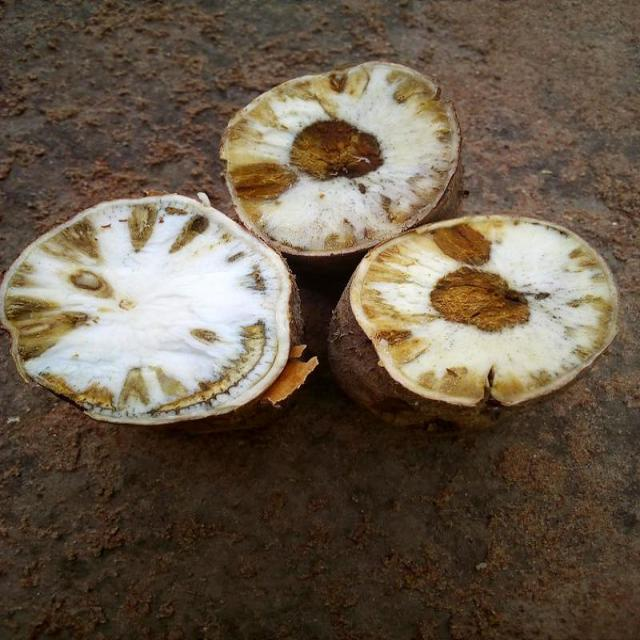cassava leaf: (0, 191, 303, 426), (331, 212, 619, 425), (218, 59, 462, 261)
